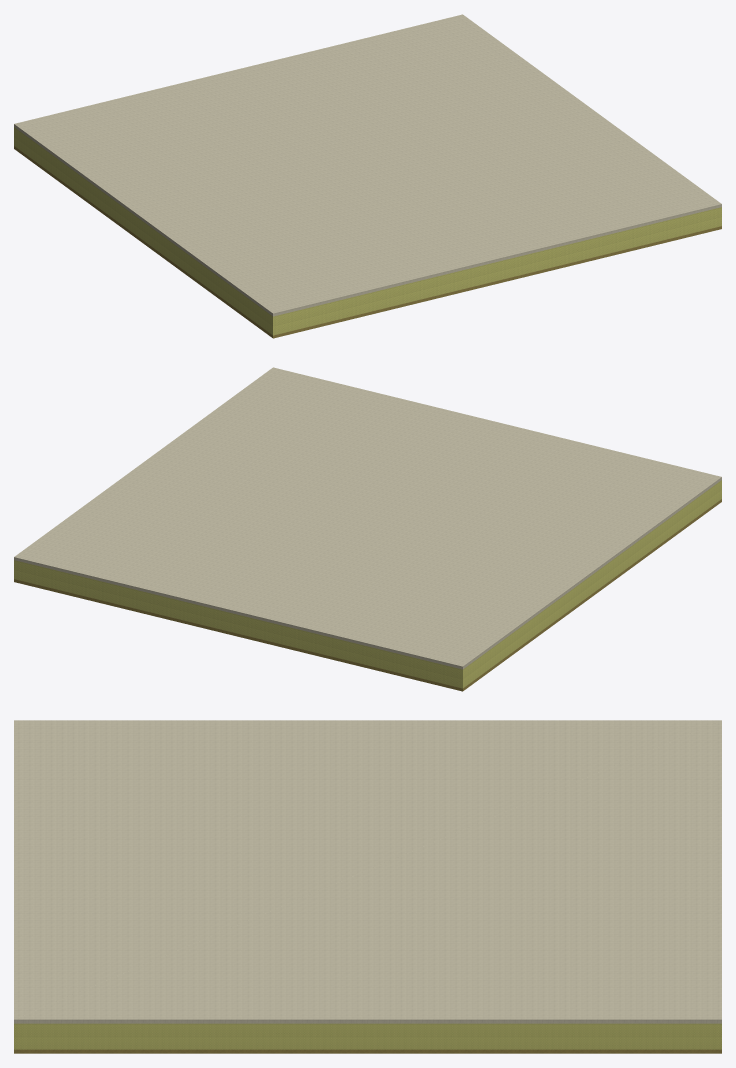
Rendered from level0_shell.obj.
The picture shows the model from 3 angles, top to bottom: view 1: azimuth 30°, elevation 25°; view 2: azimuth 150°, elevation 25°; view 3: azimuth 270°, elevation 25°; orthographic projection. The views are drawn at different scales.
Size of the model in its own units: 79 by 4.2 by 79.
4 materials, 4 textured.
